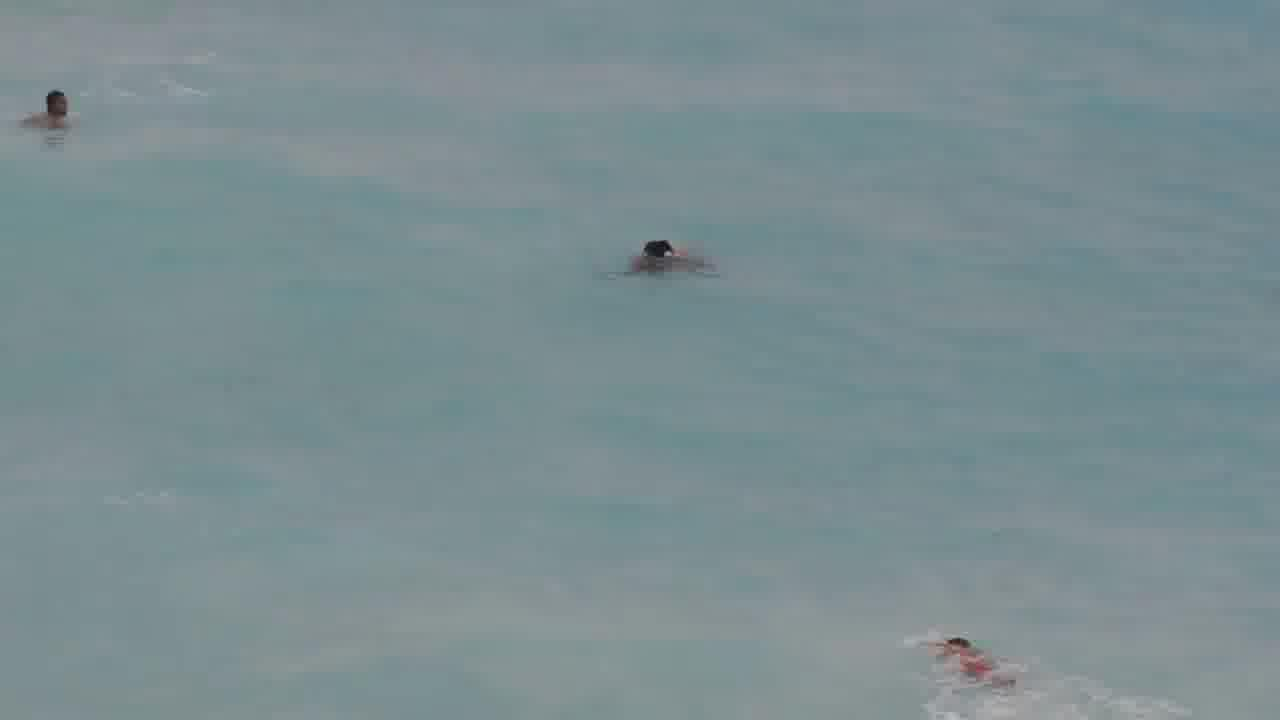swimmer: (28, 76, 93, 155), (923, 626, 1006, 675), (631, 232, 698, 287)
